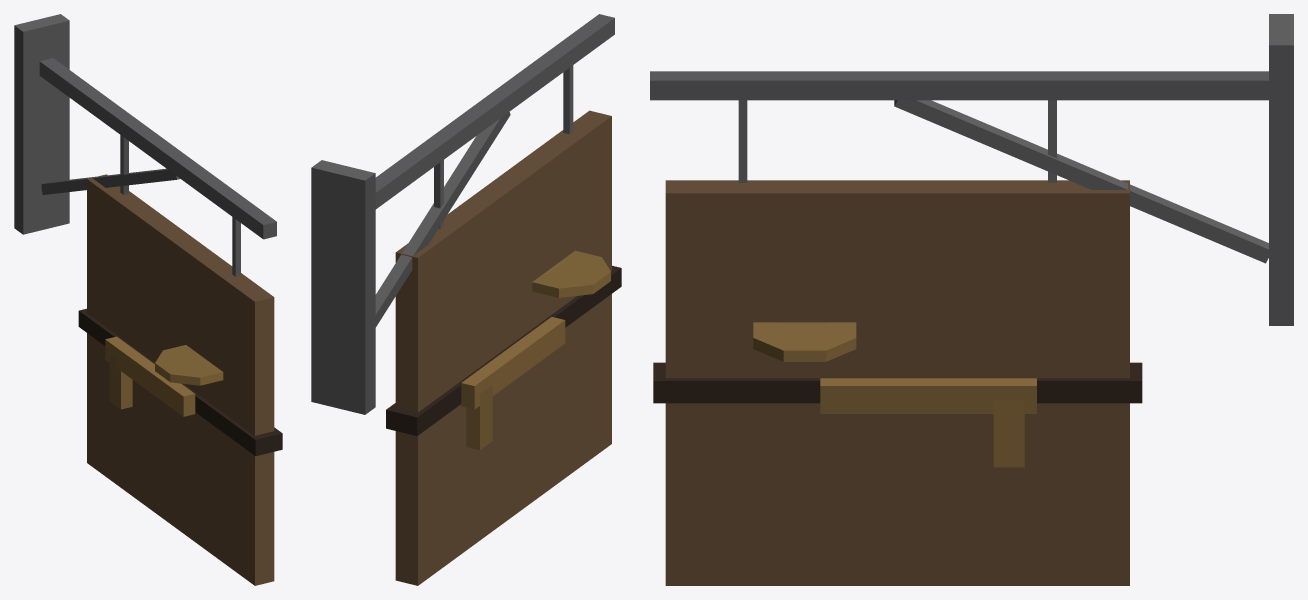
The model's file is walk_prop_sign_goods.glb.
The picture shows the model from 3 angles, left to right: view 1: azimuth 30°, elevation 25°; view 2: azimuth 150°, elevation 25°; view 3: azimuth 270°, elevation 25°; orthographic projection. The views are drawn at different scales.
Visible parts, largest first — view 1: walk_prop_sign_goods; view 2: walk_prop_sign_goods; view 3: walk_prop_sign_goods.
Boxes of the visible parts, x1=… form: walk_prop_sign_goods: x1=14, y1=14, x2=282, y2=585; walk_prop_sign_goods: x1=311, y1=14, x2=621, y2=585; walk_prop_sign_goods: x1=650, y1=14, x2=1293, y2=585.
Bounding box in the file's own units: 0.2663 × 0.98 × 1.04.
Materials: 2 (2 with a texture image).
